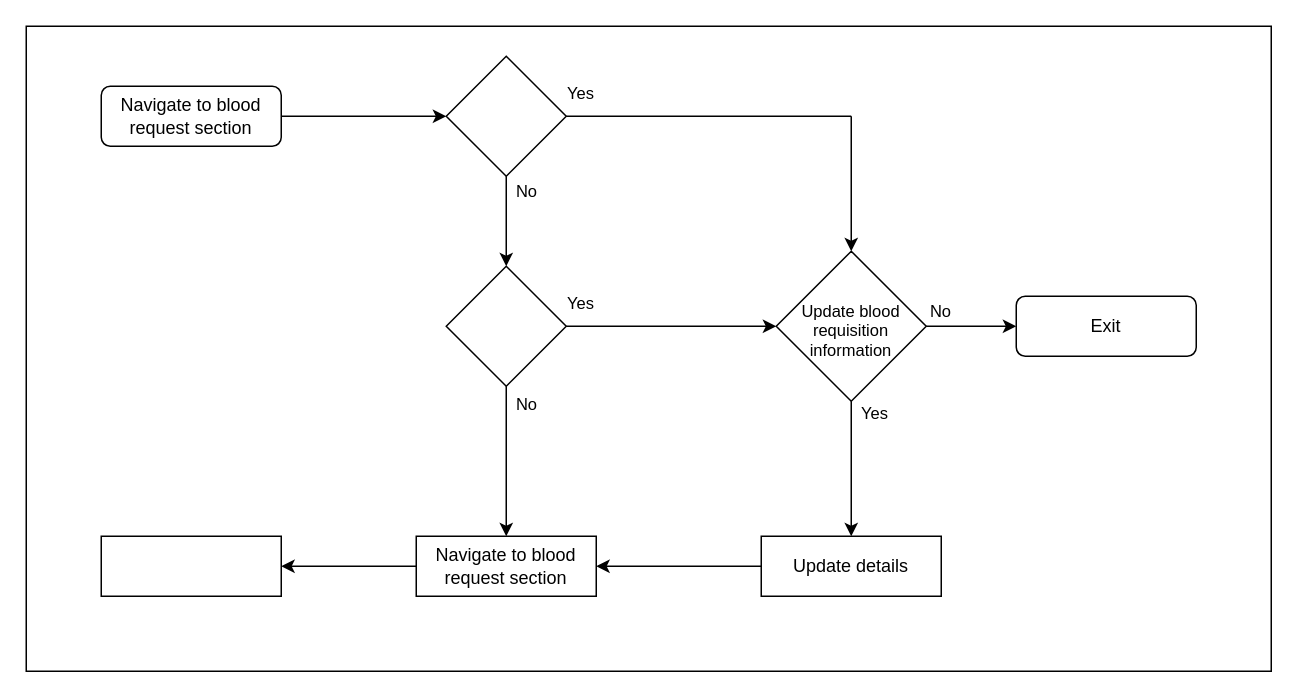
Image size: 1298x698. Some labels were removed from this diagram. Here are the shapes that lost their labels. From the top down, the box of each, then its label:
(445, 55, 566, 176): User is new?
(445, 265, 566, 386): Wants to update info?
(100, 535, 281, 596): Get nearest donor details
